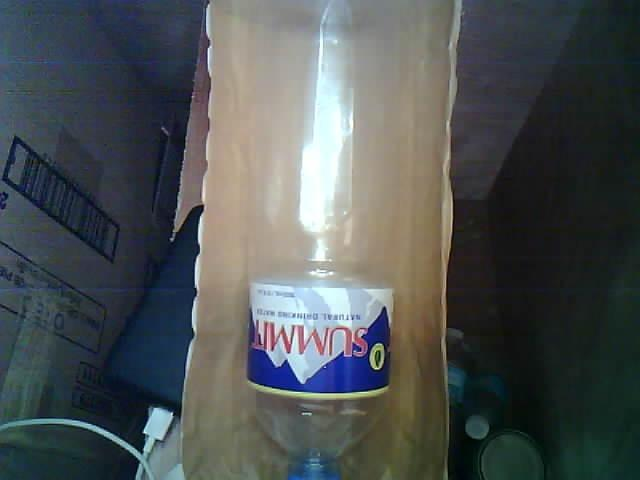large_bottle: (228, 0, 421, 480)
